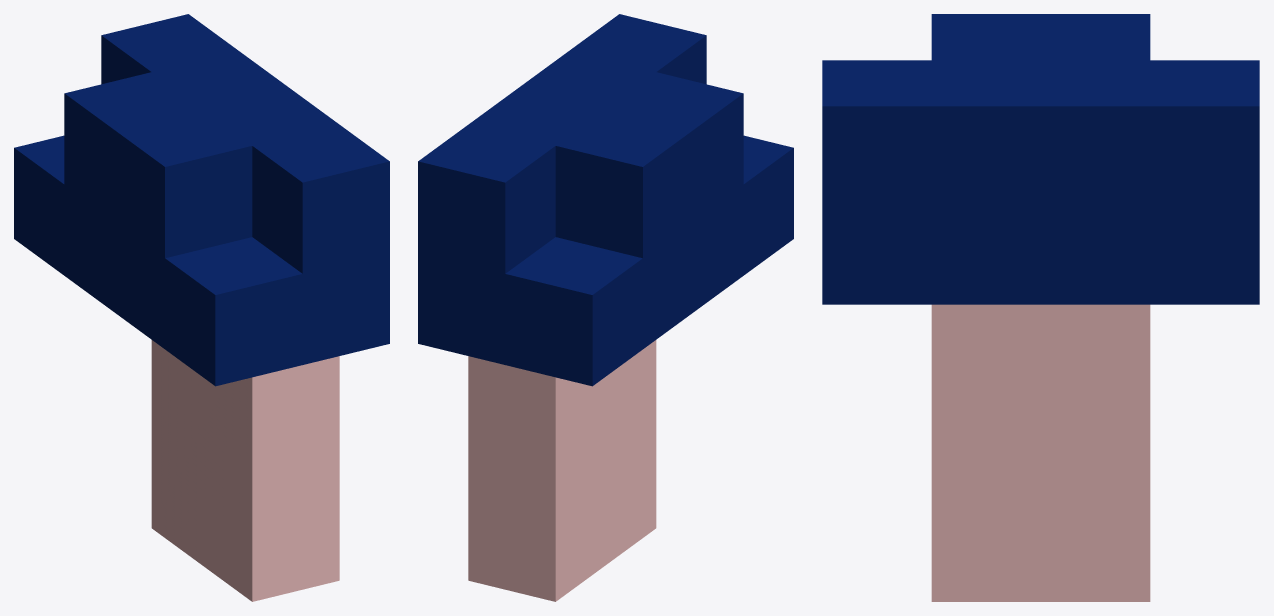
File: player-3.obj
3 renders of one model, left to right at view 1: azimuth 30°, elevation 25°; view 2: azimuth 150°, elevation 25°; view 3: azimuth 270°, elevation 25°, orthographic. The views are drawn at different scales.
Bounding box in the file's own units: 0.2 × 0.5 × 0.4.
1 material, 1 textured.
